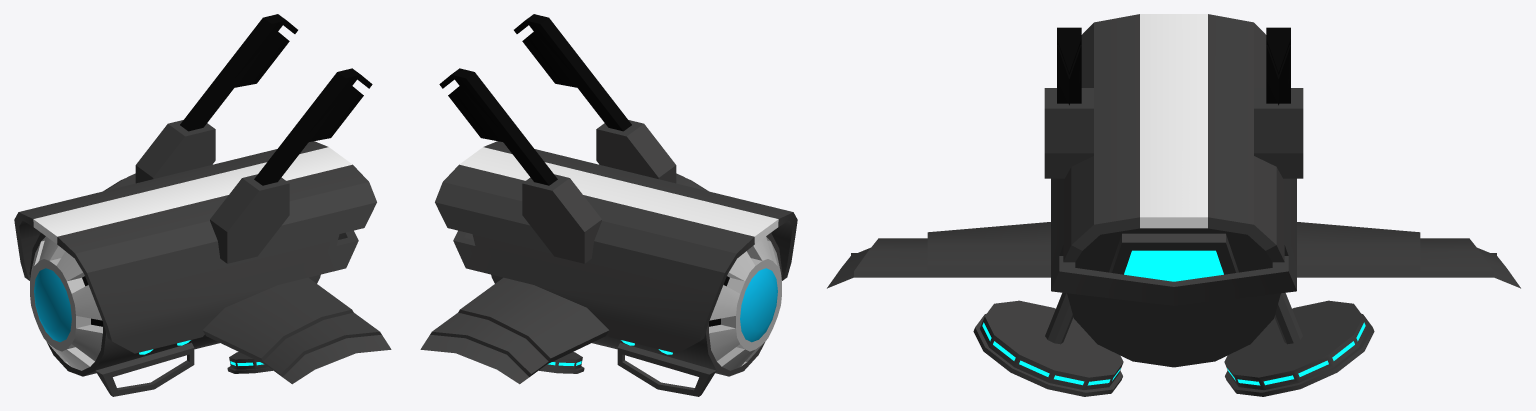
File: Drone.fbx
3 views of the same model, side by side, from view 1: azimuth 30°, elevation 25°; view 2: azimuth 150°, elevation 25°; view 3: azimuth 270°, elevation 25° (orthographic). The views are drawn at different scales.
Parts seen in each view (by area): view 1: Drone; view 2: Drone; view 3: Drone.
Part boxes in pixels (x1,y1,x2,y2): Drone: (14, 14, 391, 396); Drone: (420, 14, 797, 396); Drone: (827, 14, 1520, 396).
Bounding box in the file's own units: 2.6 × 2.38 × 3.76.
